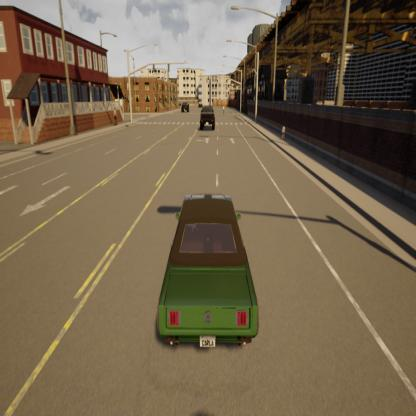Cars: (152, 188, 262, 363), (197, 104, 217, 132), (180, 99, 190, 116)
Pedestrian: (280, 121, 287, 143)
